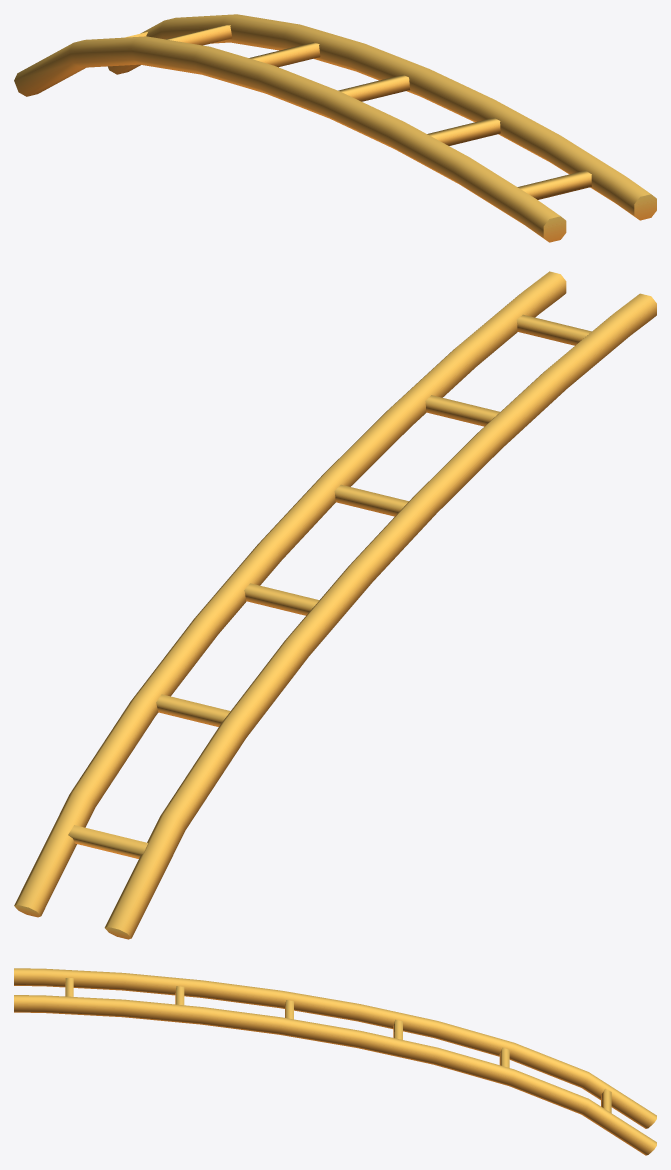
File: coaster-mouse-straight-hill-end.glb
The picture shows the model from 3 angles, top to bottom: view 1: azimuth 30°, elevation 25°; view 2: azimuth 150°, elevation 25°; view 3: azimuth 270°, elevation 25°; orthographic projection. The views are drawn at different scales.
Visible parts, largest first — view 1: coaster-mouse-straight-hill-end; view 2: coaster-mouse-straight-hill-end; view 3: coaster-mouse-straight-hill-end.
Part boxes in pixels (x1,y1,x2,y2): coaster-mouse-straight-hill-end: (14,14,656,242); coaster-mouse-straight-hill-end: (14,271,656,939); coaster-mouse-straight-hill-end: (14,968,656,1155).
Bounding box in the file's own units: 0.4999 × 1.1 × 4.07.
1 material, 1 textured.
